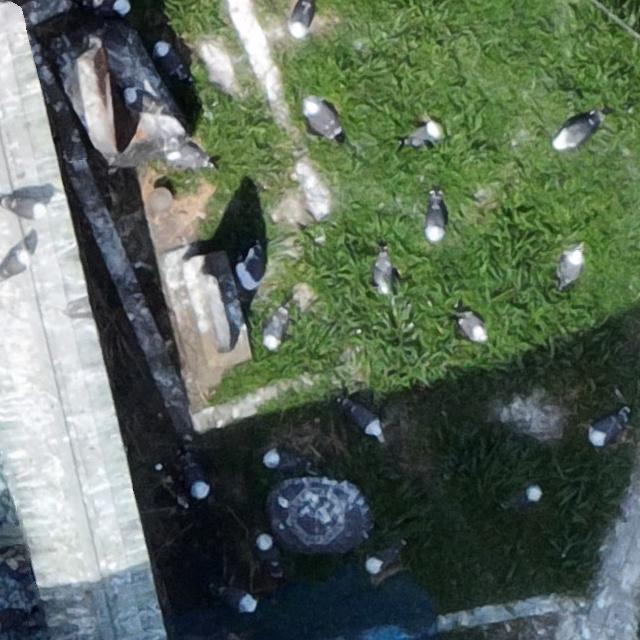umineko: (181, 447, 209, 502), (255, 533, 287, 577), (165, 142, 213, 171), (125, 89, 171, 118), (557, 120, 595, 147), (348, 404, 382, 434), (306, 103, 336, 137), (3, 195, 45, 218), (406, 122, 444, 147), (589, 414, 621, 443), (426, 201, 446, 243), (216, 588, 254, 610), (264, 311, 286, 347), (156, 44, 180, 76), (562, 249, 584, 283), (506, 487, 540, 509), (368, 548, 399, 572), (290, 4, 312, 36), (264, 449, 300, 468), (242, 250, 262, 284), (3, 251, 29, 277), (373, 254, 391, 290), (459, 314, 483, 339)
